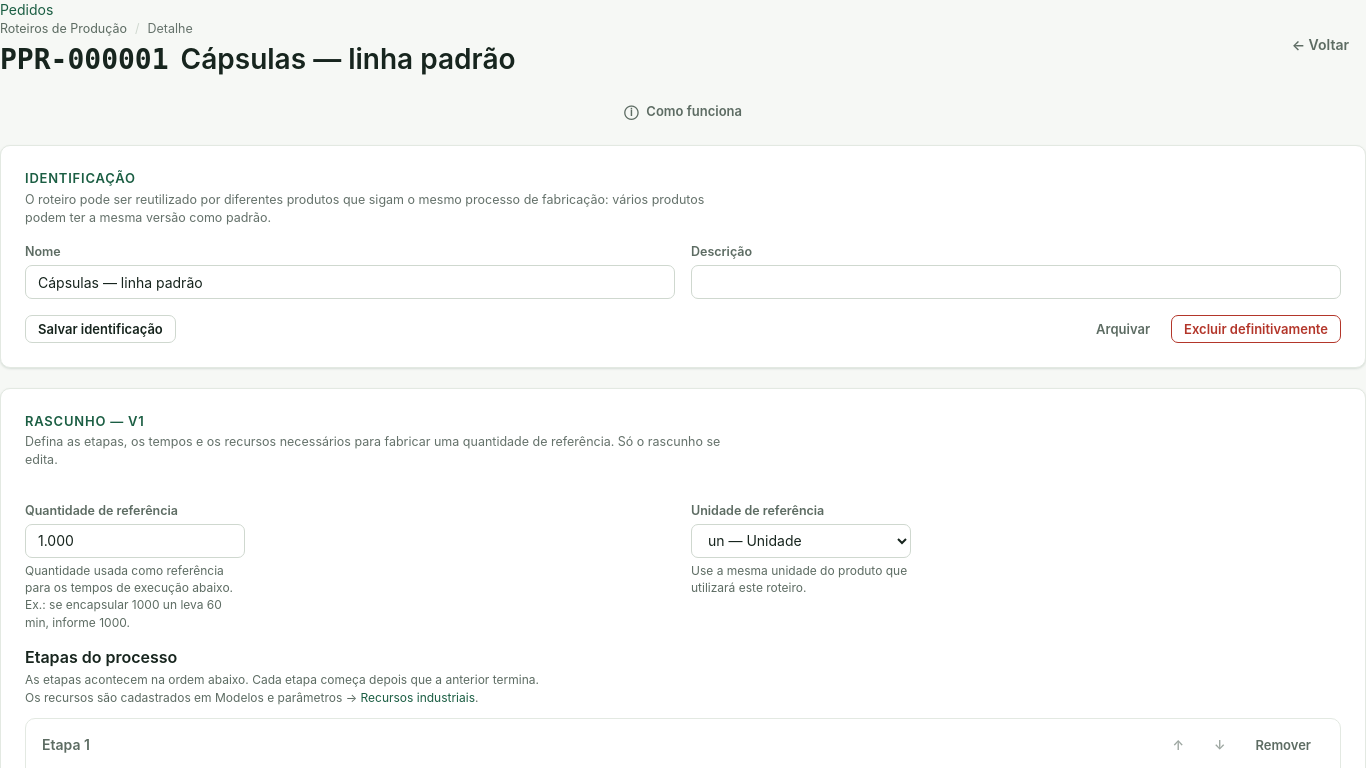
Test: Roteiro de Produção — guarda de alterações não salvas › alterar a quantidade de referência pergunta antes de sair
This screenshot has width=1366, height=768.
Expected: the heading "PPR-000001 Cápsulas — linha padrão" is shown, [0, 42, 516, 77]
Replace the text in the field labelled "Quantidade de referência" with "500": (135, 541) [25, 524, 245, 558]
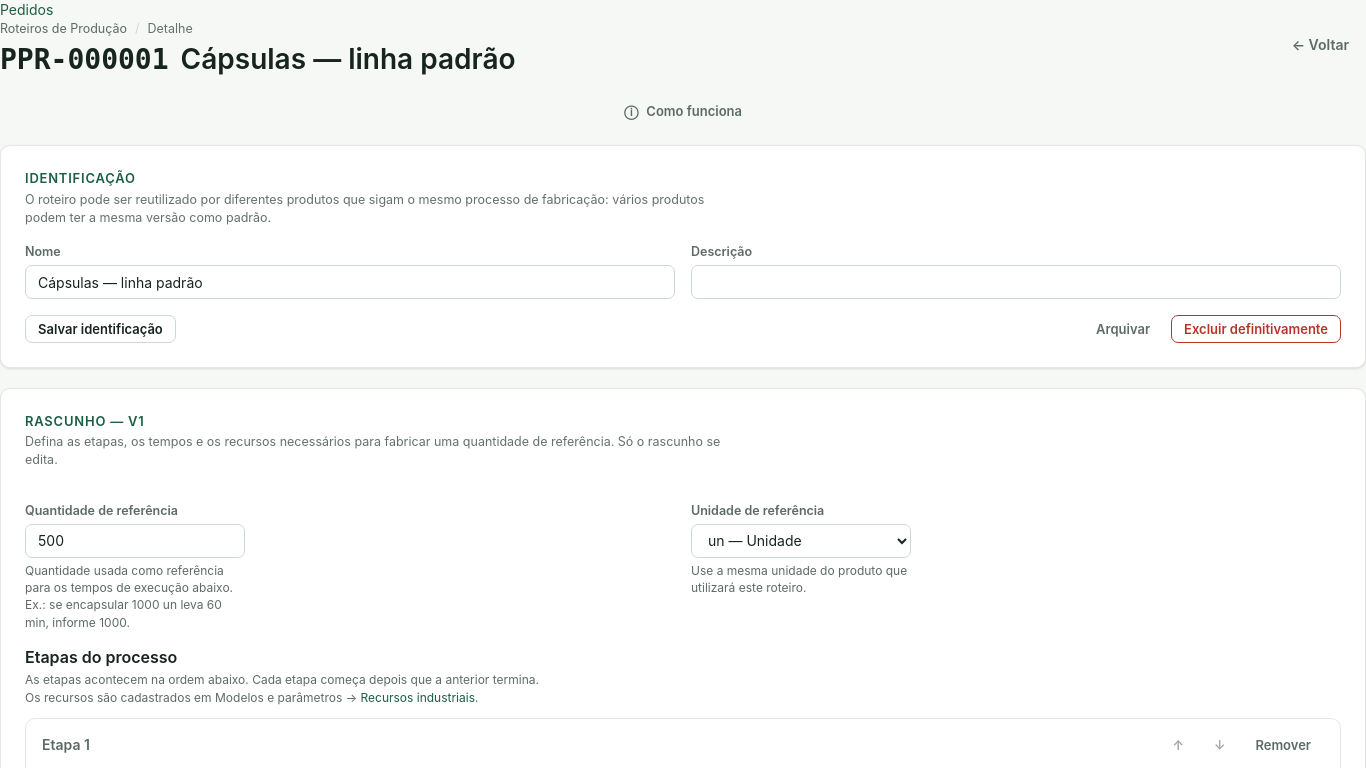
Click the link "Pedidos": (27, 10) [0, 1, 53, 18]
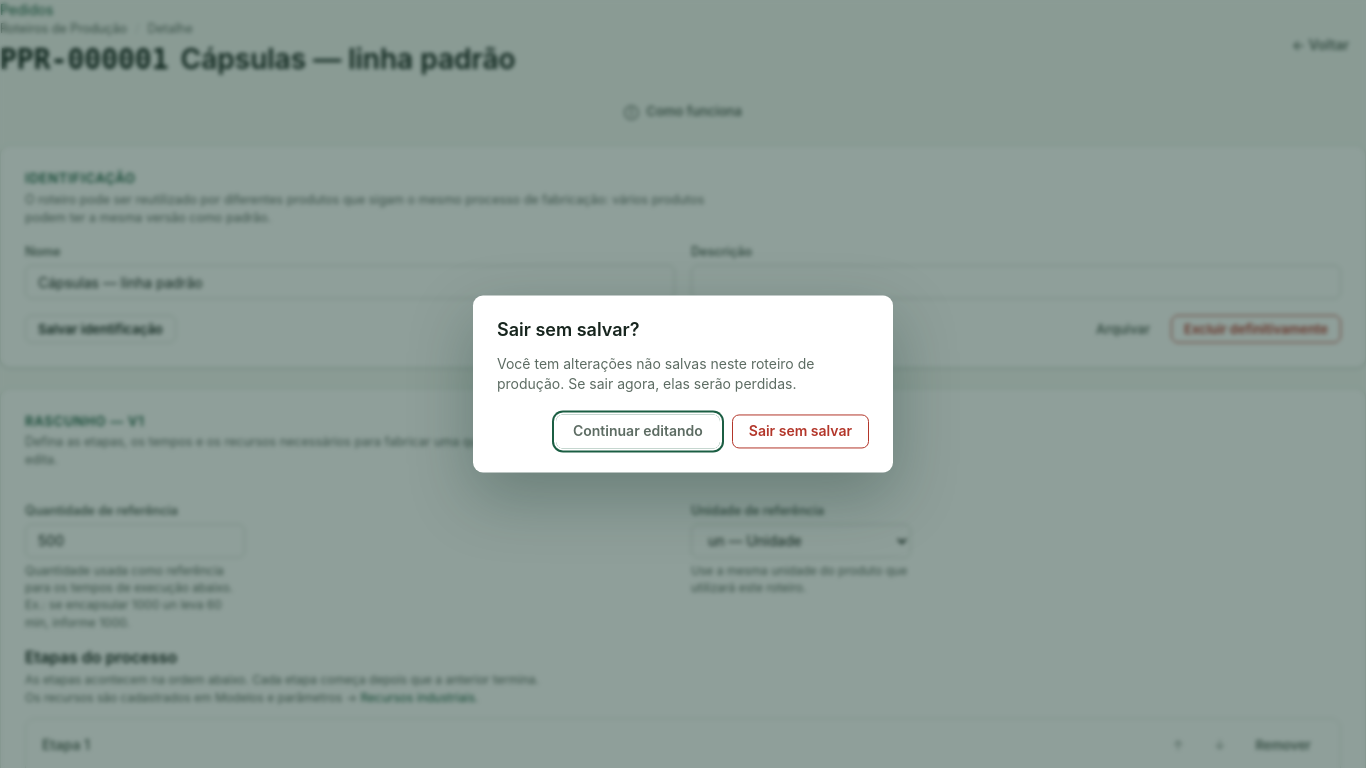
Expected: the heading "Sair sem salvar?" is shown, [497, 320, 640, 340]
Expected: the text "alterações não salvas neste roteiro de produção" is shown, [497, 354, 869, 395]
